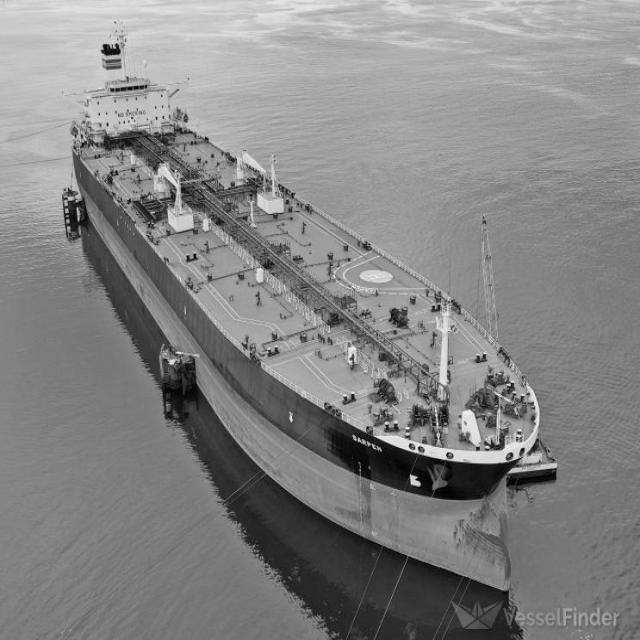Tanker: (55, 6, 544, 601)
